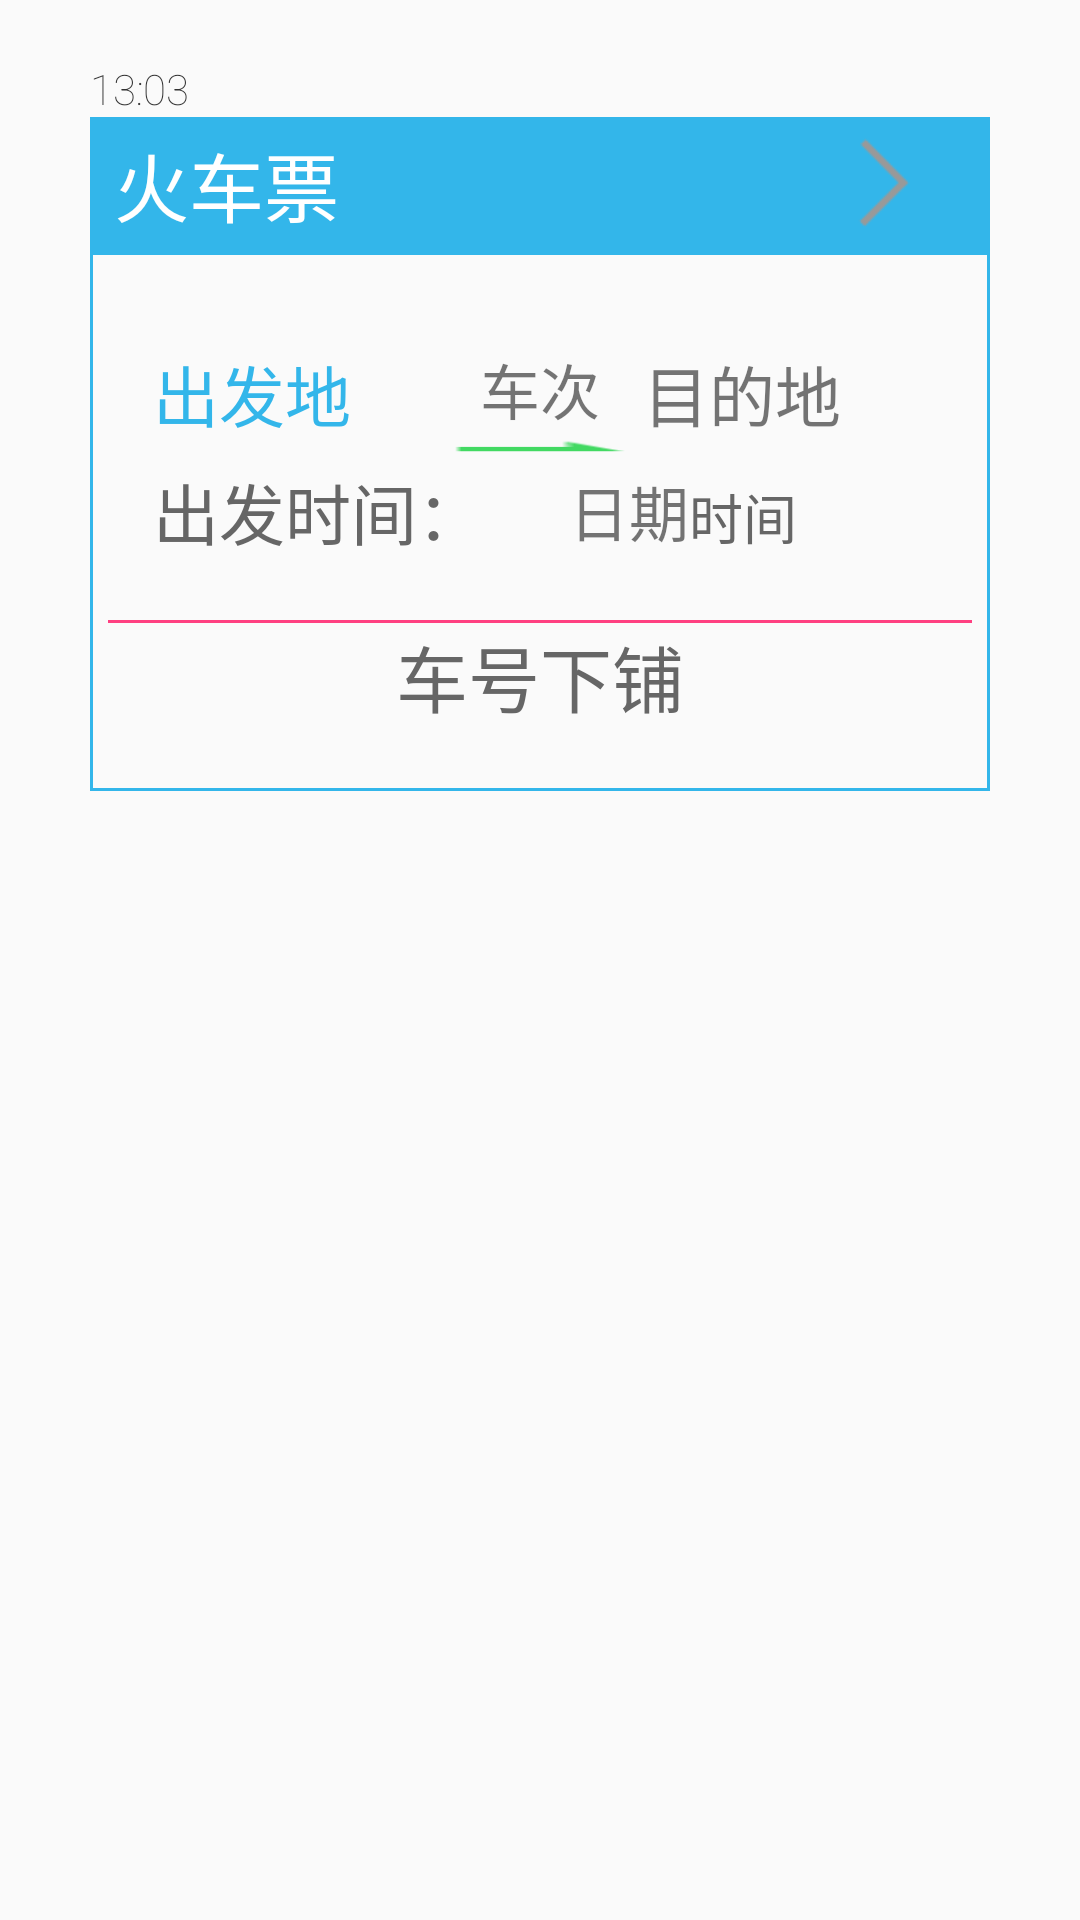

Point at icon controls on the screen. Image size 1080 × 1920, points as (x,y).
right: (884,182)
